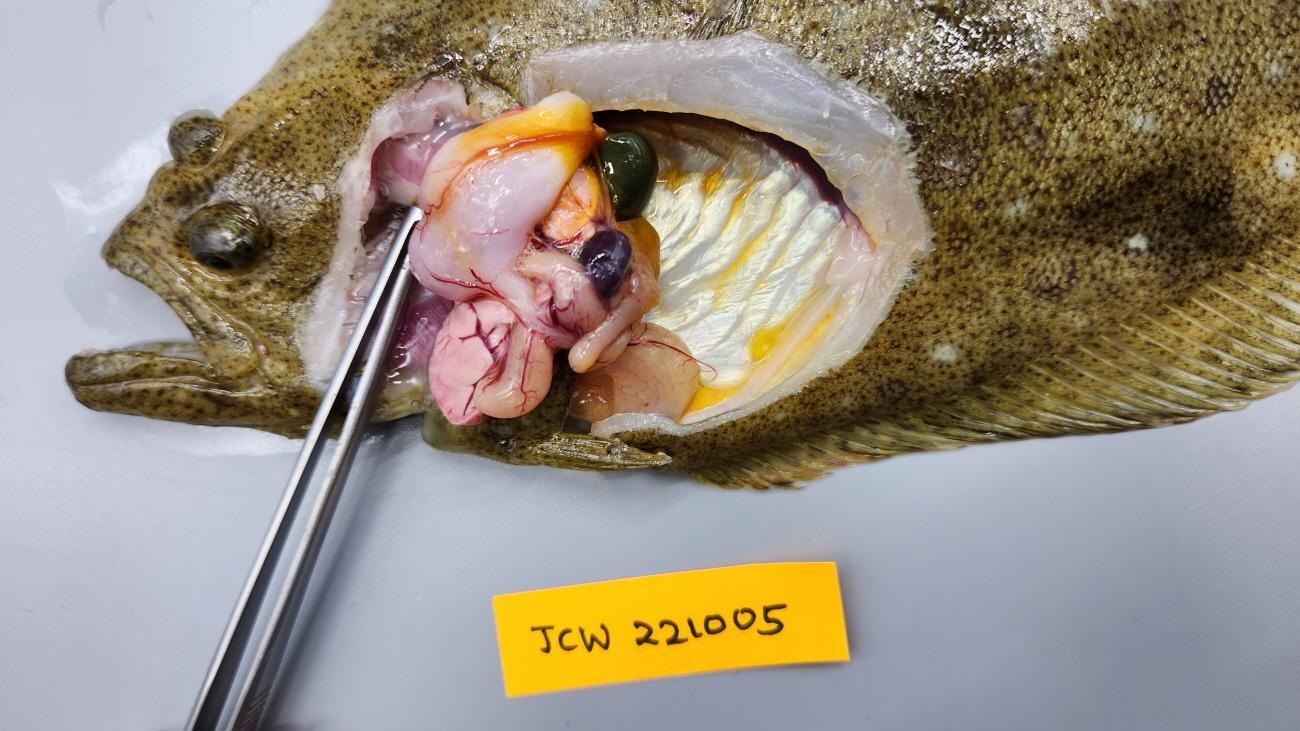POINN: (470, 229, 661, 418)
POSPN: (577, 230, 631, 299)
